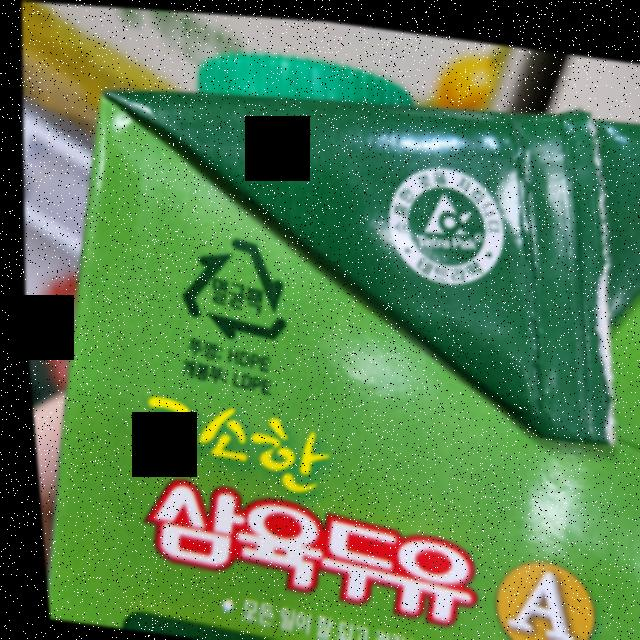SterilizedPack: (170, 225, 290, 346)
